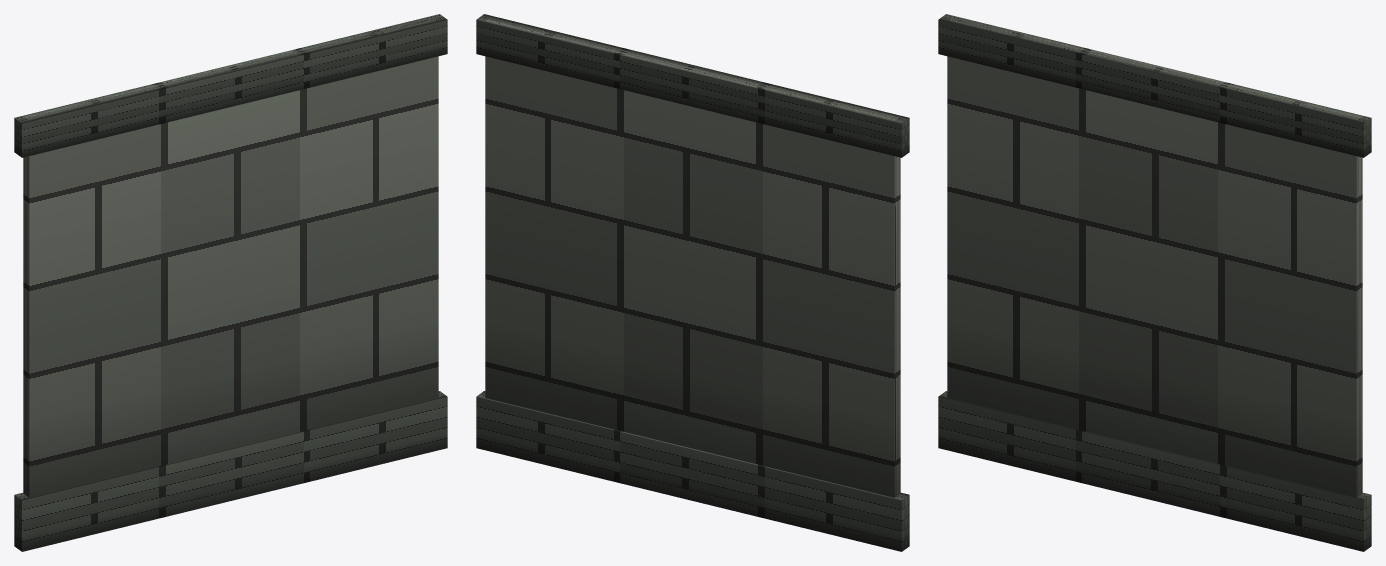
The model's file is wall.gltf.
3 renders of one model, left to right at view 1: azimuth 30°, elevation 25°; view 2: azimuth 150°, elevation 25°; view 3: azimuth 330°, elevation 25°, orthographic.
Visible parts, largest first — view 1: wall; view 2: wall; view 3: wall.
Boxes of the visible parts, x1,y1,x2,y2 form: wall: (14,14,447,551); wall: (476,14,909,551); wall: (938,14,1371,551).
Bounding box in the file's own units: 1.04 × 1 × 0.0336.
1 material, 1 textured.
